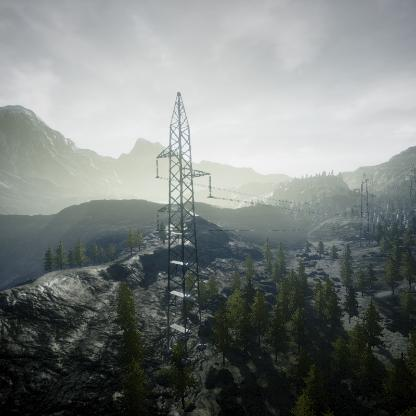tower: (151, 91, 217, 362), (350, 171, 378, 239)
